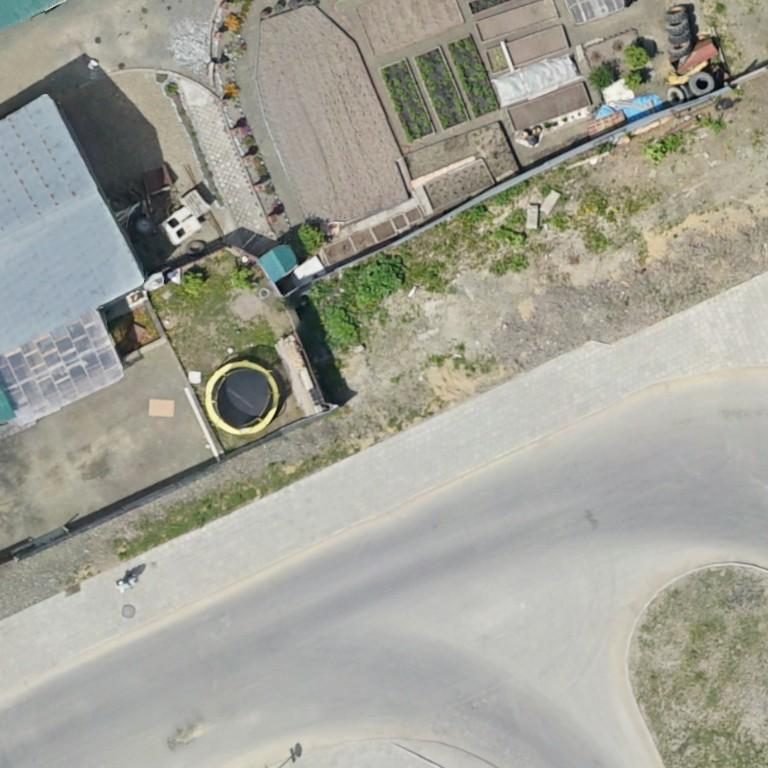hogweed: (356, 255, 404, 307), (325, 308, 356, 343)
